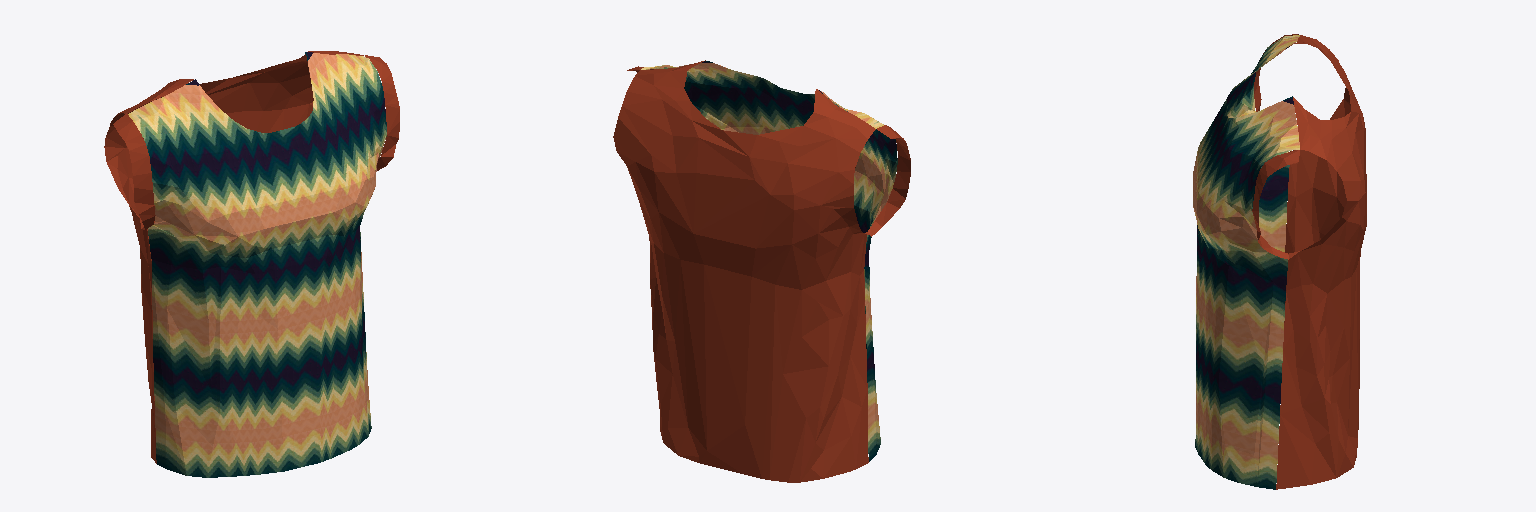
3 views of the same model, side by side, from view 1: azimuth 30°, elevation 25°; view 2: azimuth 150°, elevation 25°; view 3: azimuth 270°, elevation 25° (orthographic).
Parts seen in each view (by area): view 1: T_shirt; view 2: T_shirt; view 3: T_shirt.
Boxes of the visible parts, box(x1,y1,x2,y2) form: T_shirt: box(104, 51, 399, 477); T_shirt: box(613, 60, 910, 482); T_shirt: box(1193, 34, 1366, 489).
Bounding box in the file's own units: 0.2935 × 0.3892 × 0.1639.
2 materials, 1 textured.